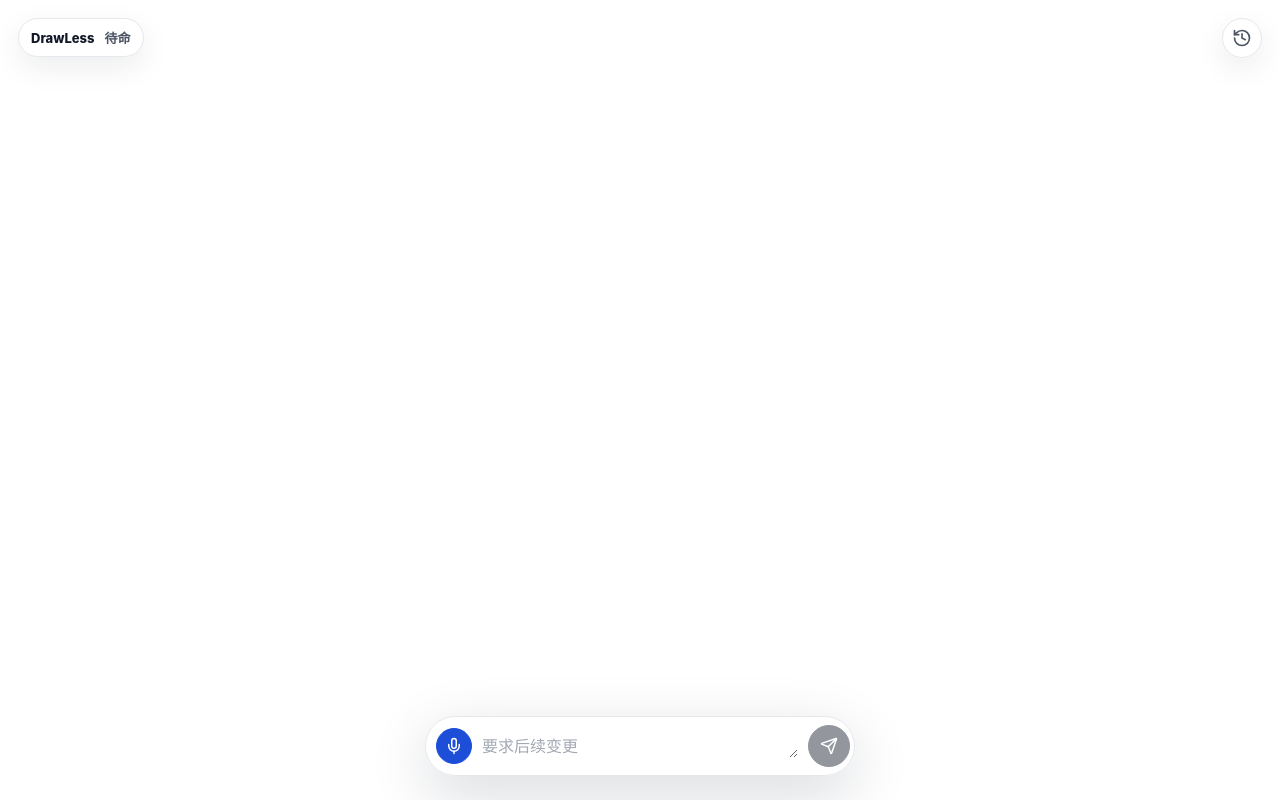
Test: App speech fallback › falls back to Web Speech from the visible conversation button when MiMo is unavailable
Click the button named "话筒对话" at (454, 746), box [436, 728, 472, 764]
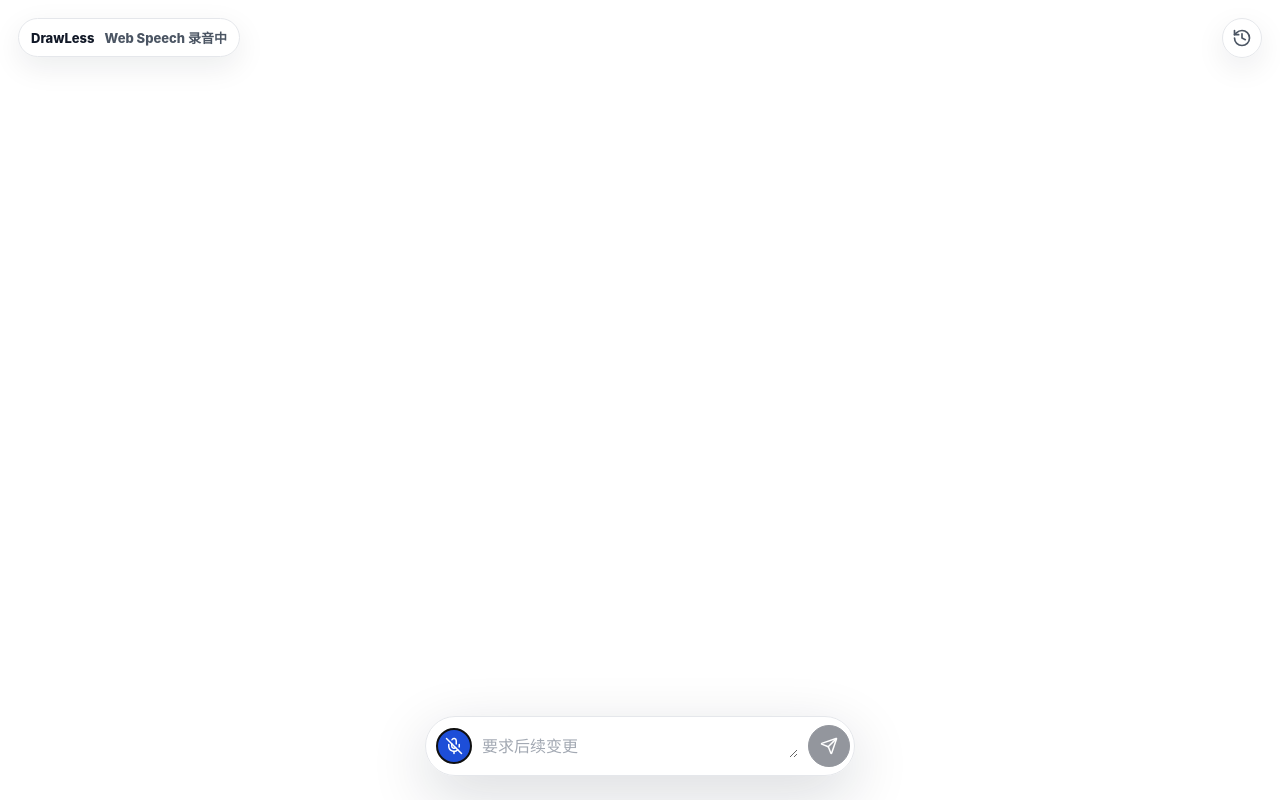
Result: the text "Web Speech 录音中" is shown at [104, 28, 227, 47]
